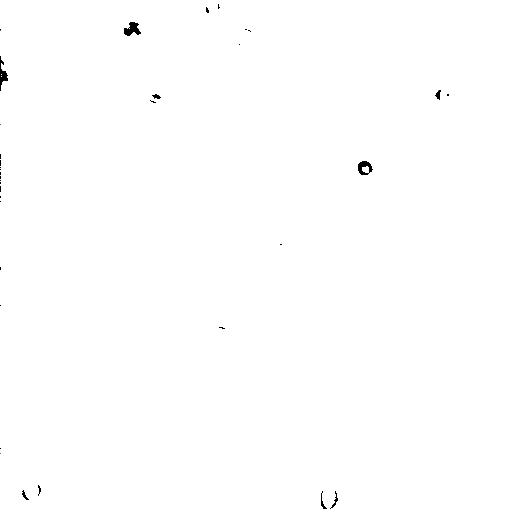micro-algae: (229, 317, 285, 367), (284, 219, 329, 267), (119, 19, 151, 52), (12, 423, 41, 454), (404, 325, 434, 354), (339, 143, 376, 164), (257, 236, 283, 259), (319, 484, 338, 511), (2, 131, 25, 153), (234, 25, 255, 49), (19, 481, 42, 502), (197, 0, 225, 16), (1, 54, 13, 90), (355, 158, 374, 176), (499, 183, 511, 207), (435, 88, 449, 100), (1, 69, 9, 87)
